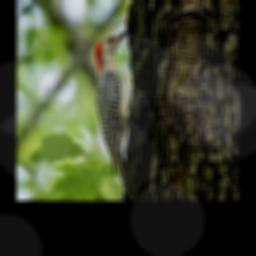Woodpecker: (95, 30, 148, 193)
